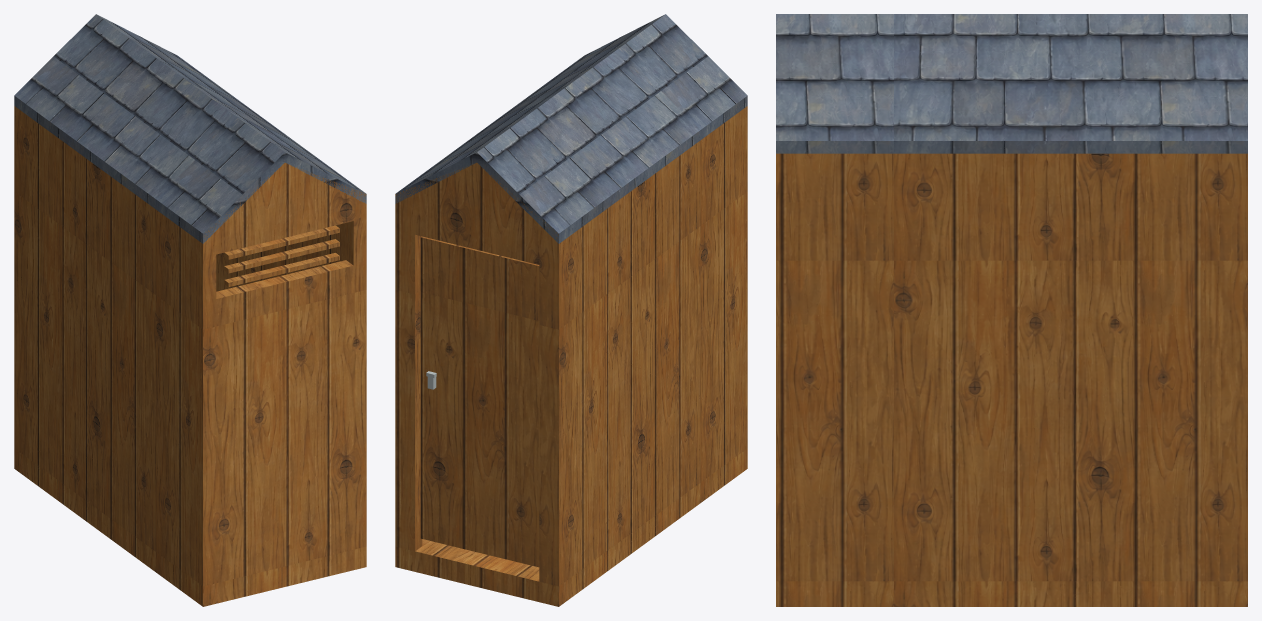
File: bath-outhouse-timber.gltf
3 renders of one model, left to right at view 1: azimuth 30°, elevation 25°; view 2: azimuth 150°, elevation 25°; view 3: azimuth 270°, elevation 25°, orthographic. The views are drawn at different scales.
Parts seen in each view (by area): view 1: exterior-timber, roof-slate, floor-timber, gable-timber; view 2: exterior-timber, door-timber, roof-slate, floor-timber, gable-timber; view 3: exterior-timber, roof-slate, floor-timber.
Part boxes in pixels (left/top/right/bottom): exterior-timber: left=14, top=106, right=366, bottom=586; roof-slate: left=14, top=14, right=366, bottom=243; floor-timber: left=14, top=448, right=366, bottom=606; gable-timber: left=203, top=162, right=366, bottom=243; exterior-timber: left=395, top=106, right=747, bottom=586; door-timber: left=420, top=236, right=539, bottom=567; roof-slate: left=395, top=14, right=747, bottom=243; floor-timber: left=395, top=448, right=747, bottom=606; gable-timber: left=395, top=162, right=558, bottom=243; exterior-timber: left=776, top=153, right=1247, bottom=581; roof-slate: left=776, top=14, right=1247, bottom=153; floor-timber: left=776, top=581, right=1247, bottom=606.
Bounding box in the file's own units: 1 × 2.54 × 2.
5 materials, 2 textured.
